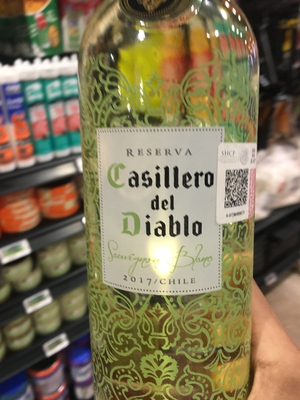casillero del diablo sauvignon blanc: (74, 4, 263, 400)
